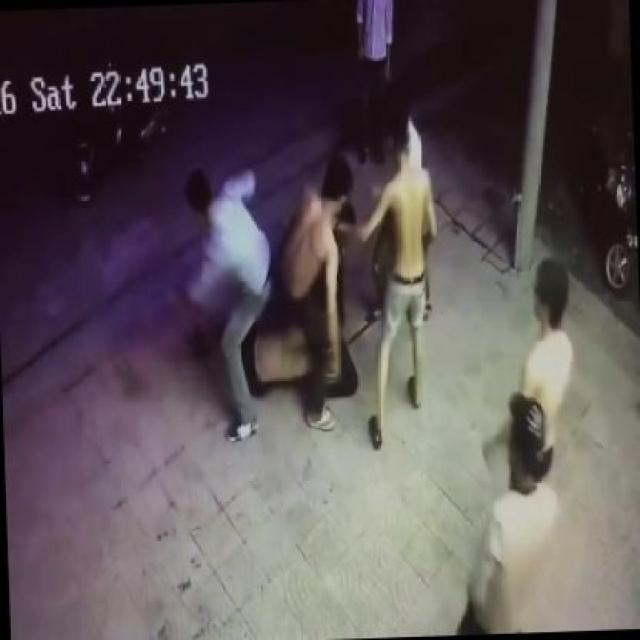fight: (161, 92, 445, 456)
non-fight: (420, 378, 585, 637)
